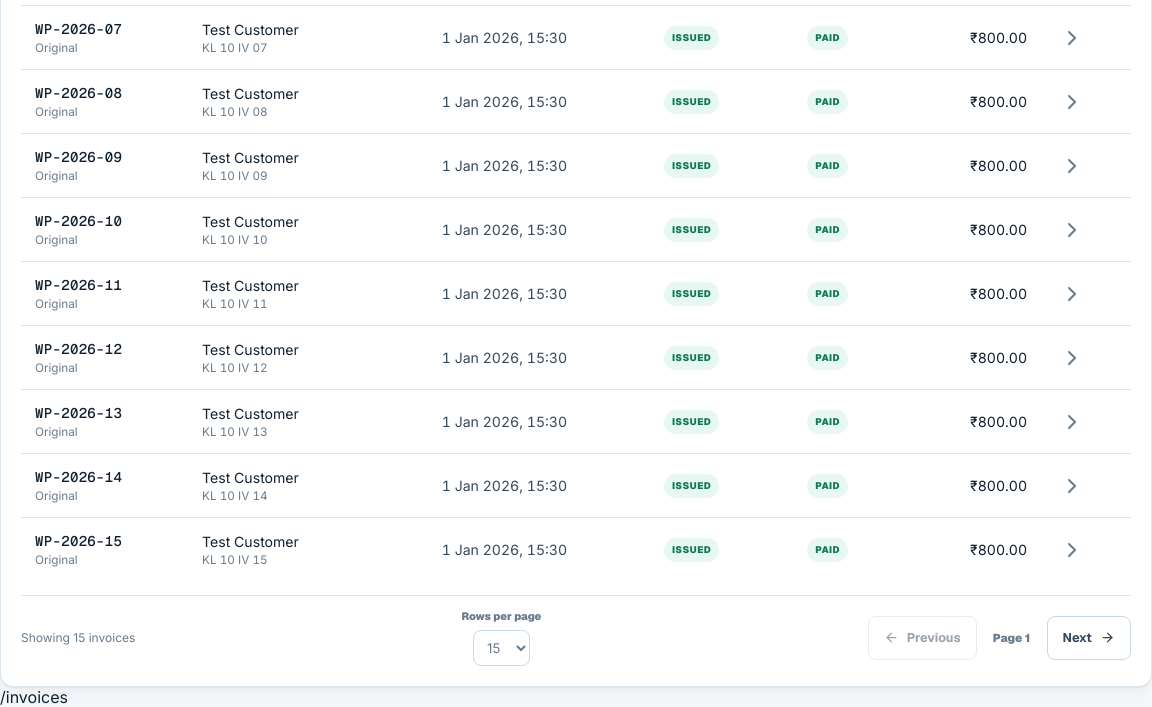
Invoices directory — server-side pagination › loads the next page with the cursor when Next is clicked
(page scrolled)
Click the button "Next" at (1089, 638), box [1047, 616, 1131, 660]
(page scrolled)
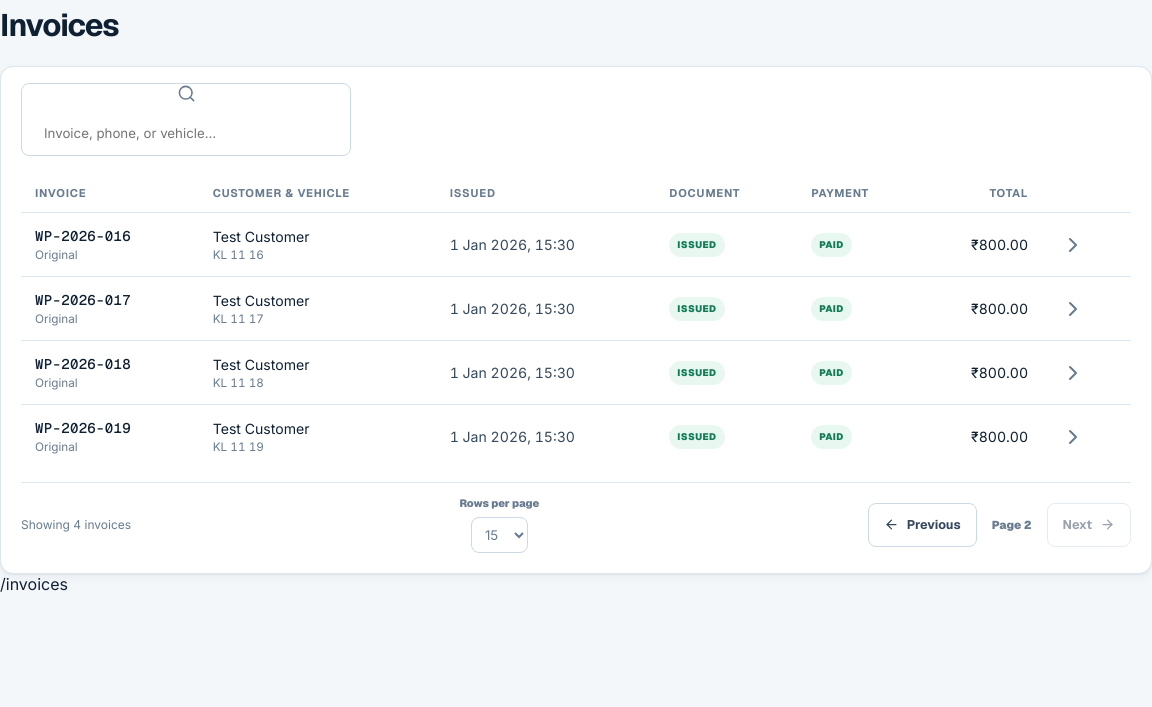
Expected: the text "WP-2026-016" is shown, [35, 227, 131, 245]
Expected: the text "Page 2" is shown, [992, 517, 1032, 532]
Expected: the text "Showing 4 invoices" is shown, [21, 517, 131, 532]
